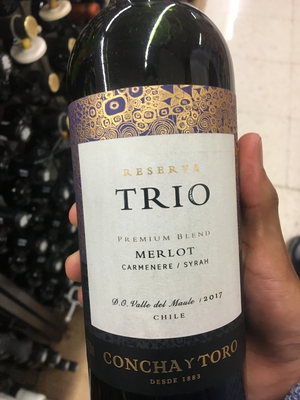trio merlot: (67, 2, 253, 389)
